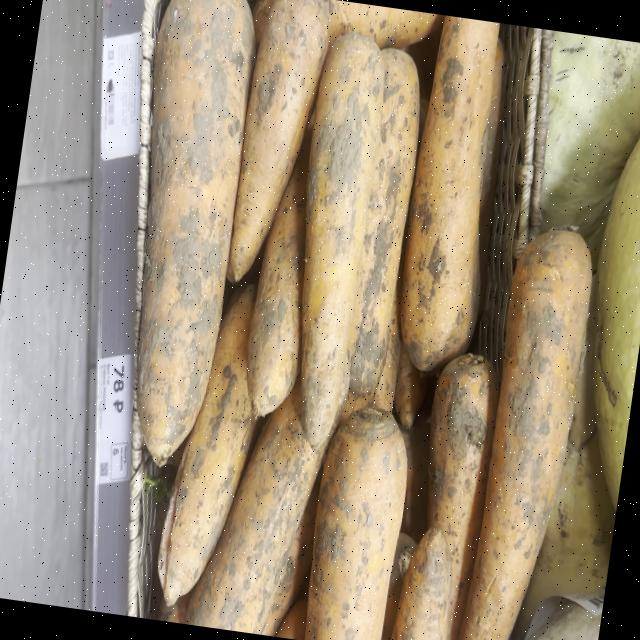carrot: (135, 0, 254, 465), (458, 230, 591, 640), (184, 378, 327, 635), (299, 31, 384, 449), (400, 16, 498, 371), (158, 284, 256, 604), (340, 48, 419, 423), (229, 0, 328, 280), (304, 407, 406, 640), (426, 353, 498, 640), (246, 123, 312, 416), (261, 468, 322, 636), (390, 526, 451, 640), (327, 0, 441, 49)
